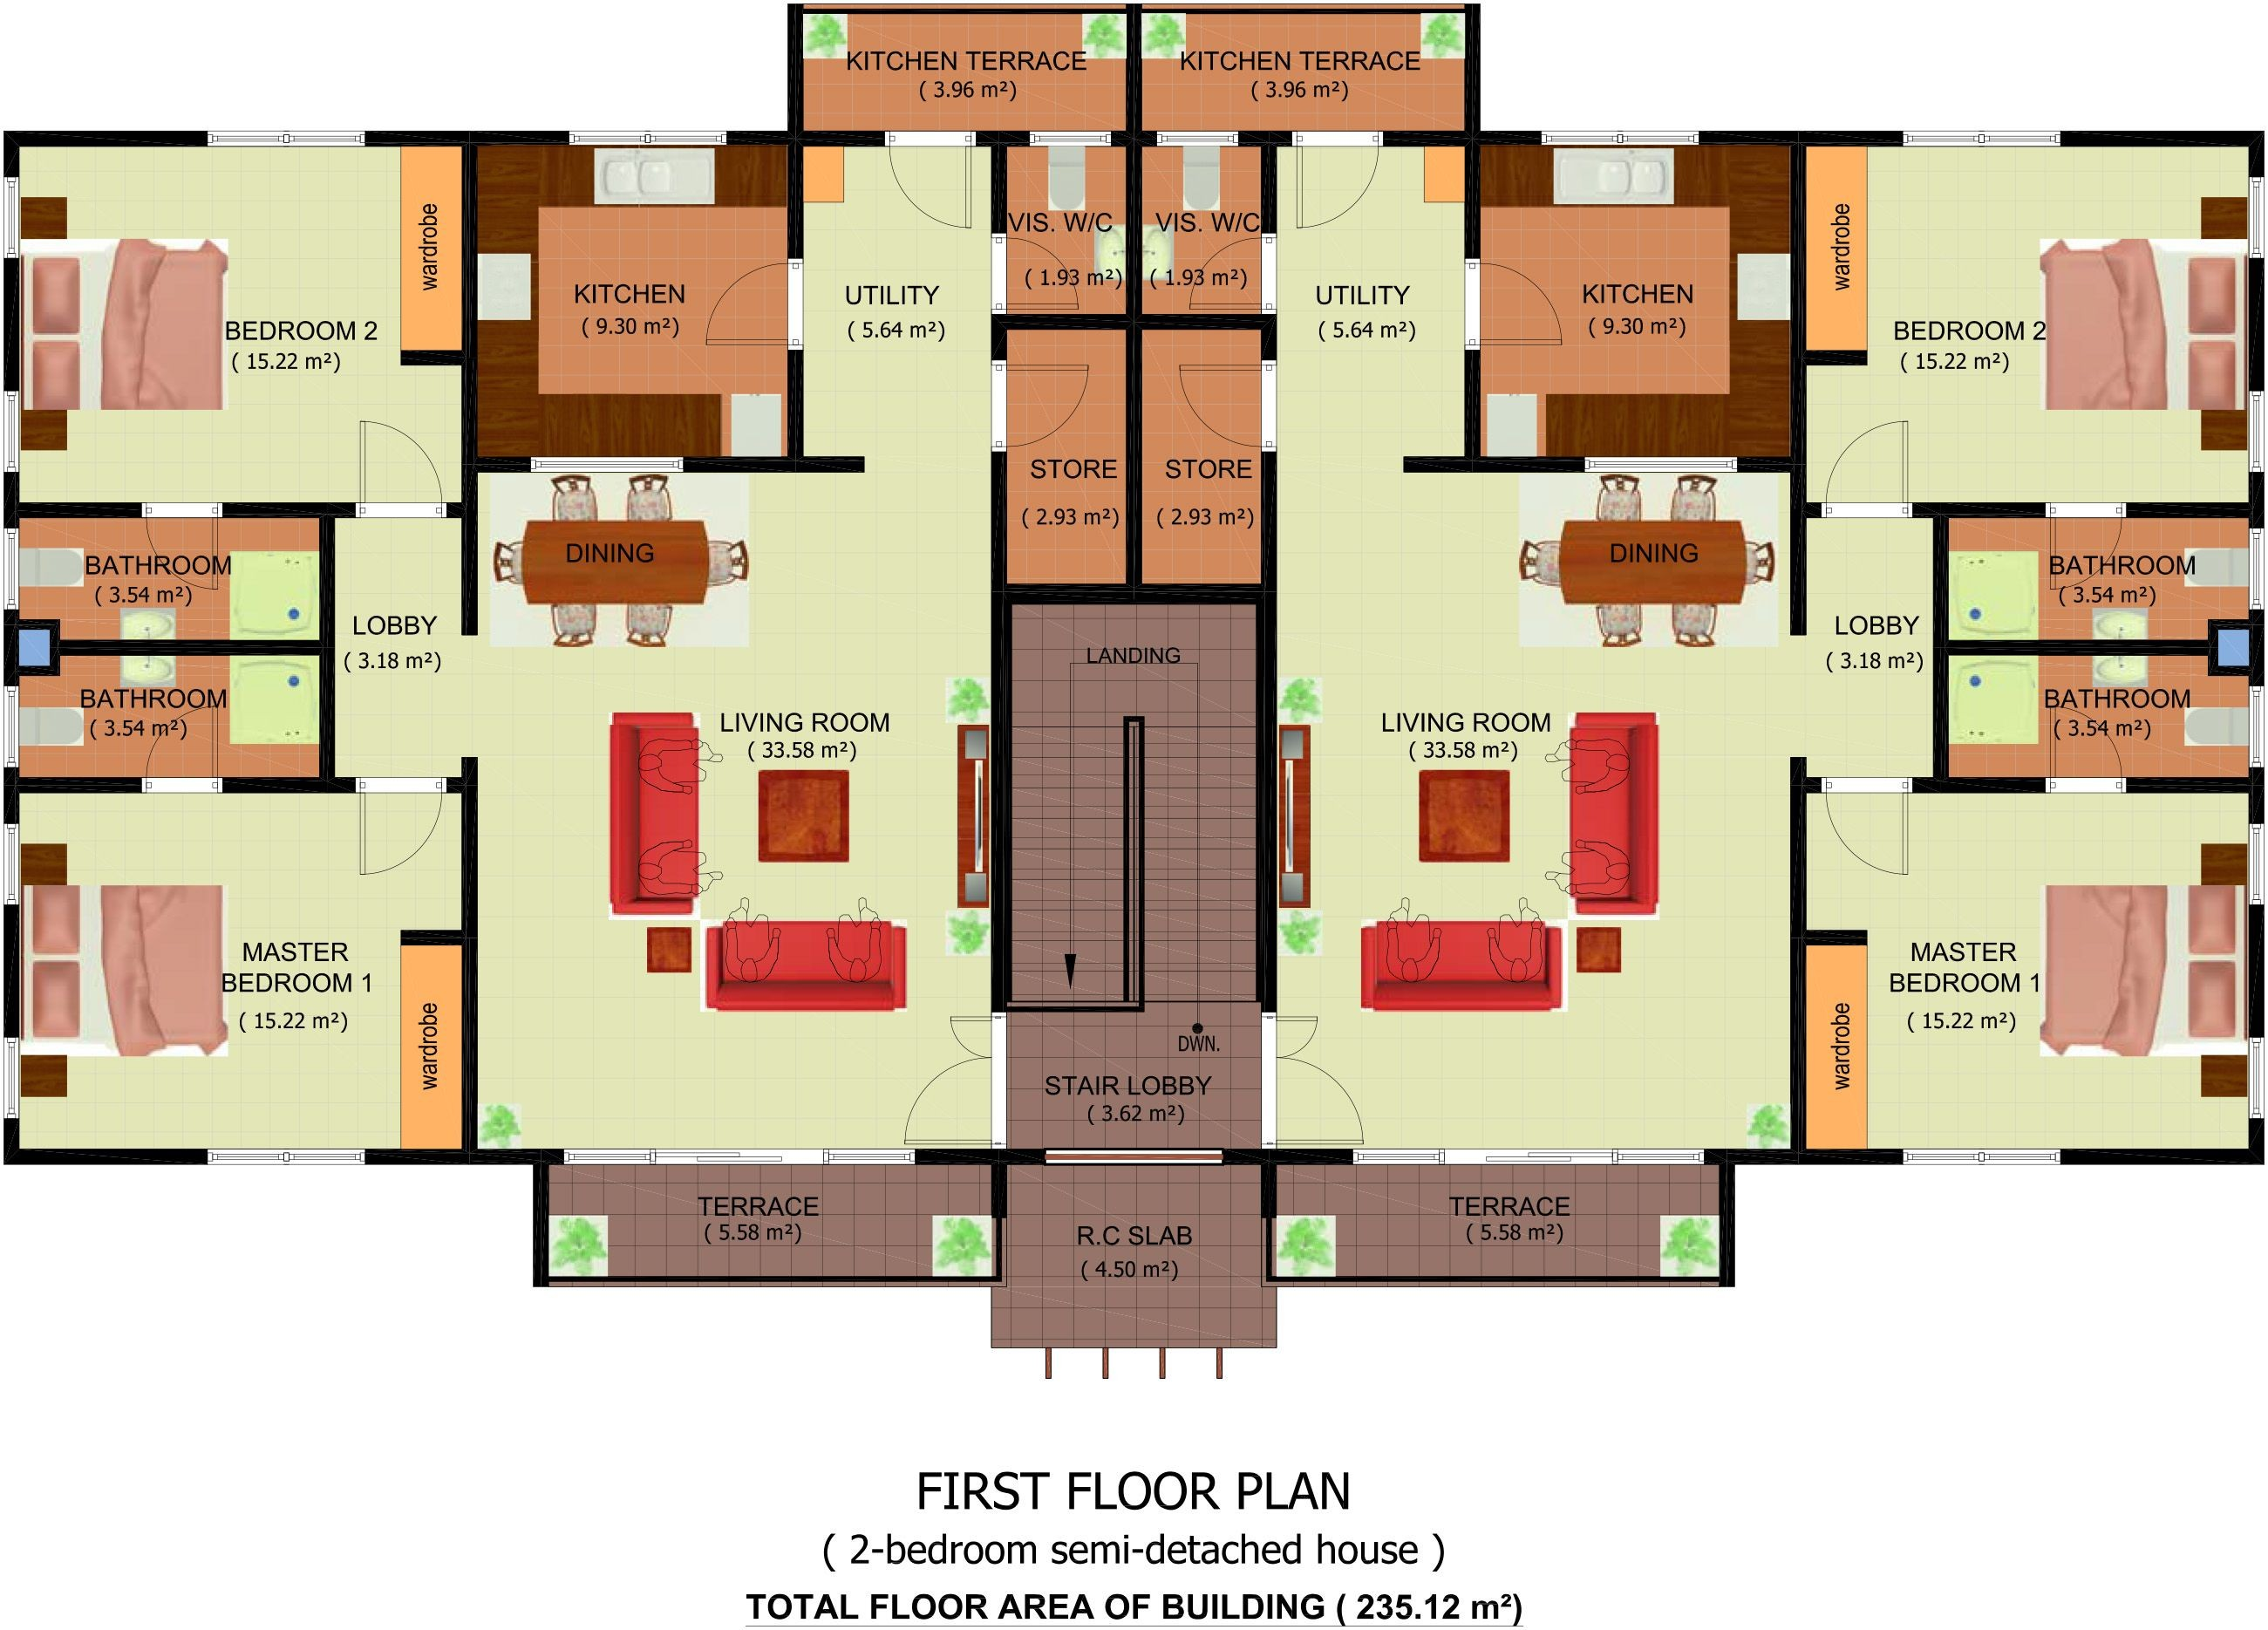door: (343, 806, 458, 891), (1814, 419, 1921, 503), (1287, 151, 1391, 234), (350, 408, 444, 498), (887, 146, 977, 236), (1824, 799, 1914, 878), (141, 516, 236, 590)
room: (1263, 454, 1810, 1162), (1268, 459, 1810, 1164), (461, 465, 1000, 1167), (7, 771, 486, 1171), (1786, 778, 2268, 1167), (1794, 132, 2266, 523), (4, 139, 468, 510), (1469, 132, 1805, 466), (465, 130, 798, 463), (0, 495, 333, 651), (789, 4, 1138, 146), (1134, 11, 1477, 150), (7, 644, 331, 789), (995, 324, 1139, 602), (1141, 317, 1280, 602), (988, 130, 1141, 326), (1138, 132, 1275, 333)
window: (1440, 1149, 1692, 1169), (204, 1149, 368, 1169), (650, 1148, 819, 1164), (574, 132, 724, 150), (562, 1149, 808, 1160), (210, 127, 364, 143), (1907, 1151, 2055, 1167), (817, 1139, 905, 1162), (1356, 1149, 1442, 1171), (0, 1037, 19, 1123), (148, 776, 217, 799), (0, 525, 19, 604), (357, 775, 453, 790), (4, 822, 19, 892), (1035, 136, 1109, 150), (5, 396, 18, 472), (4, 681, 16, 755)
